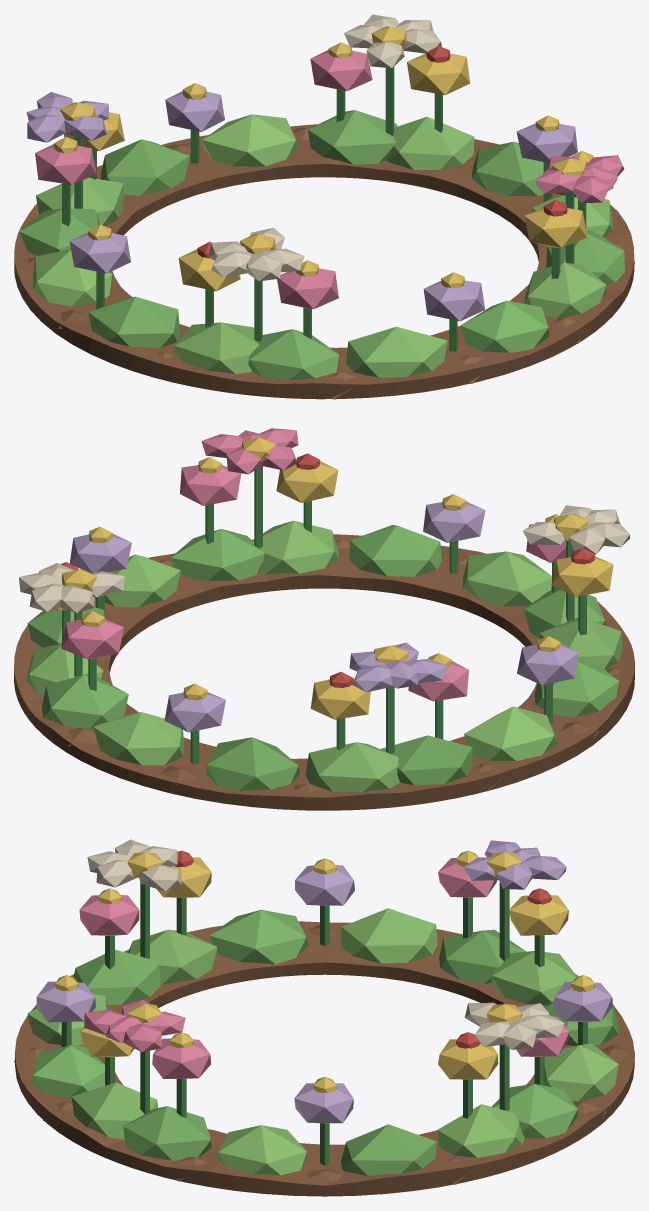
Rendered from habitat_flower_bed_overlay.fbx.
3 renders of one model, top to bottom at view 1: azimuth 30°, elevation 25°; view 2: azimuth 150°, elevation 25°; view 3: azimuth 270°, elevation 25°, orthographic.
Visible parts, largest first — view 1: habitat_flower_bed_overlay; view 2: habitat_flower_bed_overlay; view 3: habitat_flower_bed_overlay.
Boxes of the visible parts, bbox=[...] form: habitat_flower_bed_overlay: bbox=[14, 14, 634, 399]; habitat_flower_bed_overlay: bbox=[14, 428, 634, 810]; habitat_flower_bed_overlay: bbox=[14, 839, 634, 1196].
Size of the model in its own units: 7.51 by 1.84 by 7.52.
